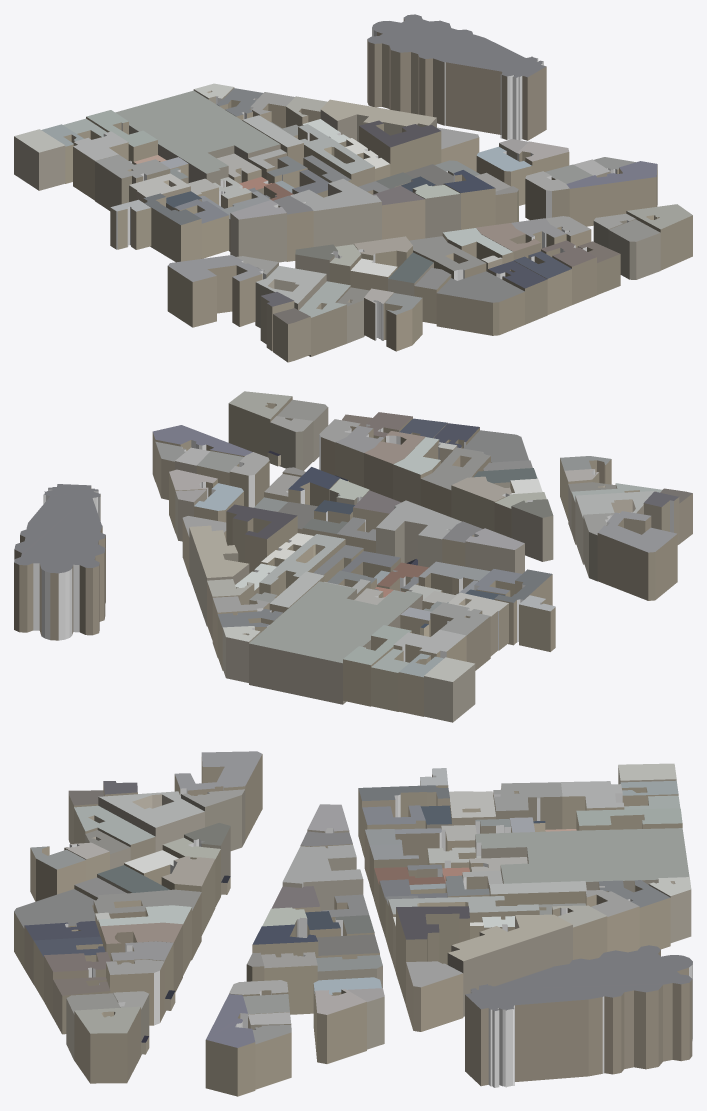
3 views of the same model, one above another, from view 1: azimuth 30°, elevation 25°; view 2: azimuth 150°, elevation 25°; view 3: azimuth 270°, elevation 25° (orthographic). The views are drawn at different scales.
Parts seen in each view (by area): view 1: tuile; view 2: tuile; view 3: tuile.
Part boxes in pixels (bbox=[...]): tuile: bbox=[14, 14, 692, 362]; tuile: bbox=[14, 391, 692, 722]; tuile: bbox=[14, 751, 692, 1096].
Bounding box in the file's own units: 253 × 34.79 × 255.
